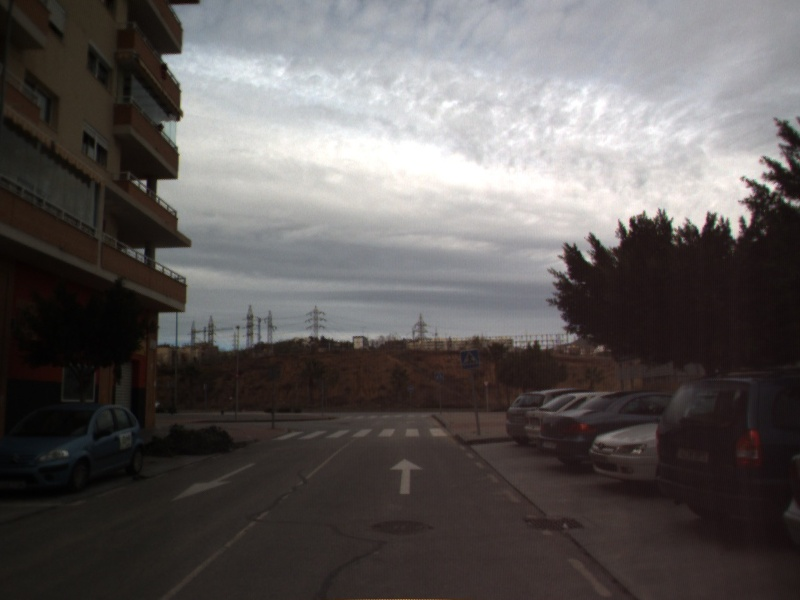STRAIGHT: (388, 456, 426, 496)
